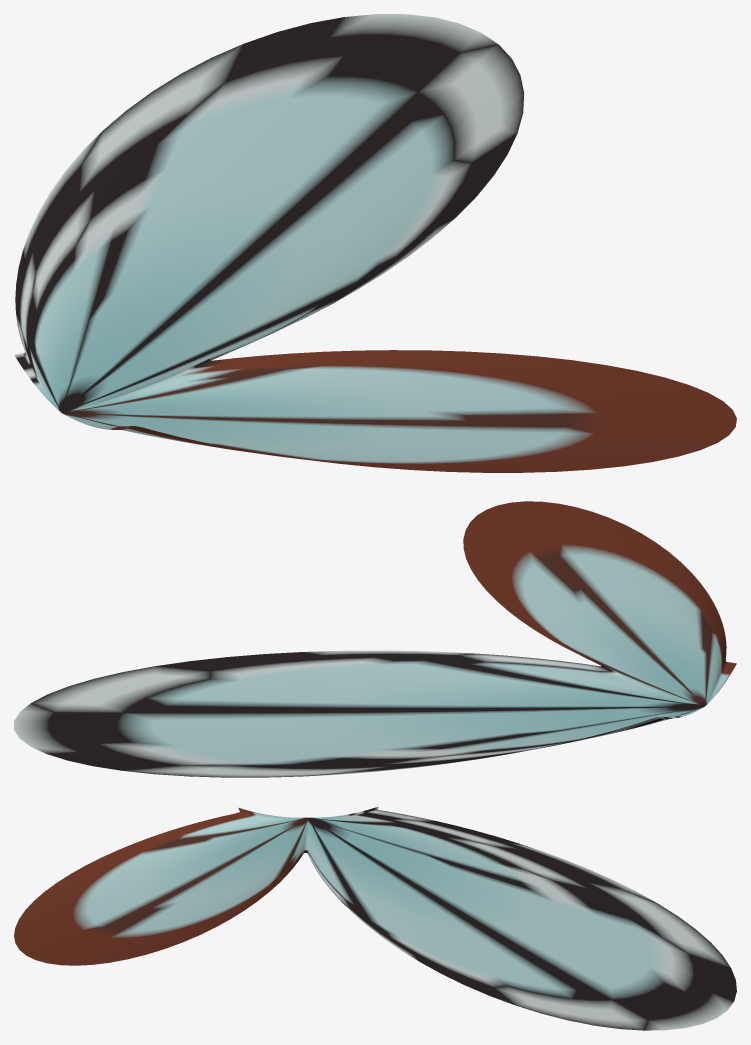
File: Asagimadara_Wing.fbx
The picture shows the model from 3 angles, top to bottom: view 1: azimuth 30°, elevation 25°; view 2: azimuth 150°, elevation 25°; view 3: azimuth 270°, elevation 25°; orthographic projection. The views are drawn at different scales.
Visible parts, largest first — view 1: Asagimadara_Wing; view 2: Asagimadara_Wing; view 3: Asagimadara_Wing.
Boxes of the visible parts, x1,y1,x2,y2 form: Asagimadara_Wing: [14, 14, 736, 472]; Asagimadara_Wing: [14, 501, 736, 777]; Asagimadara_Wing: [14, 806, 736, 1030].
Bounding box in the file's own units: 1.52 × 0.04 × 2.05.
